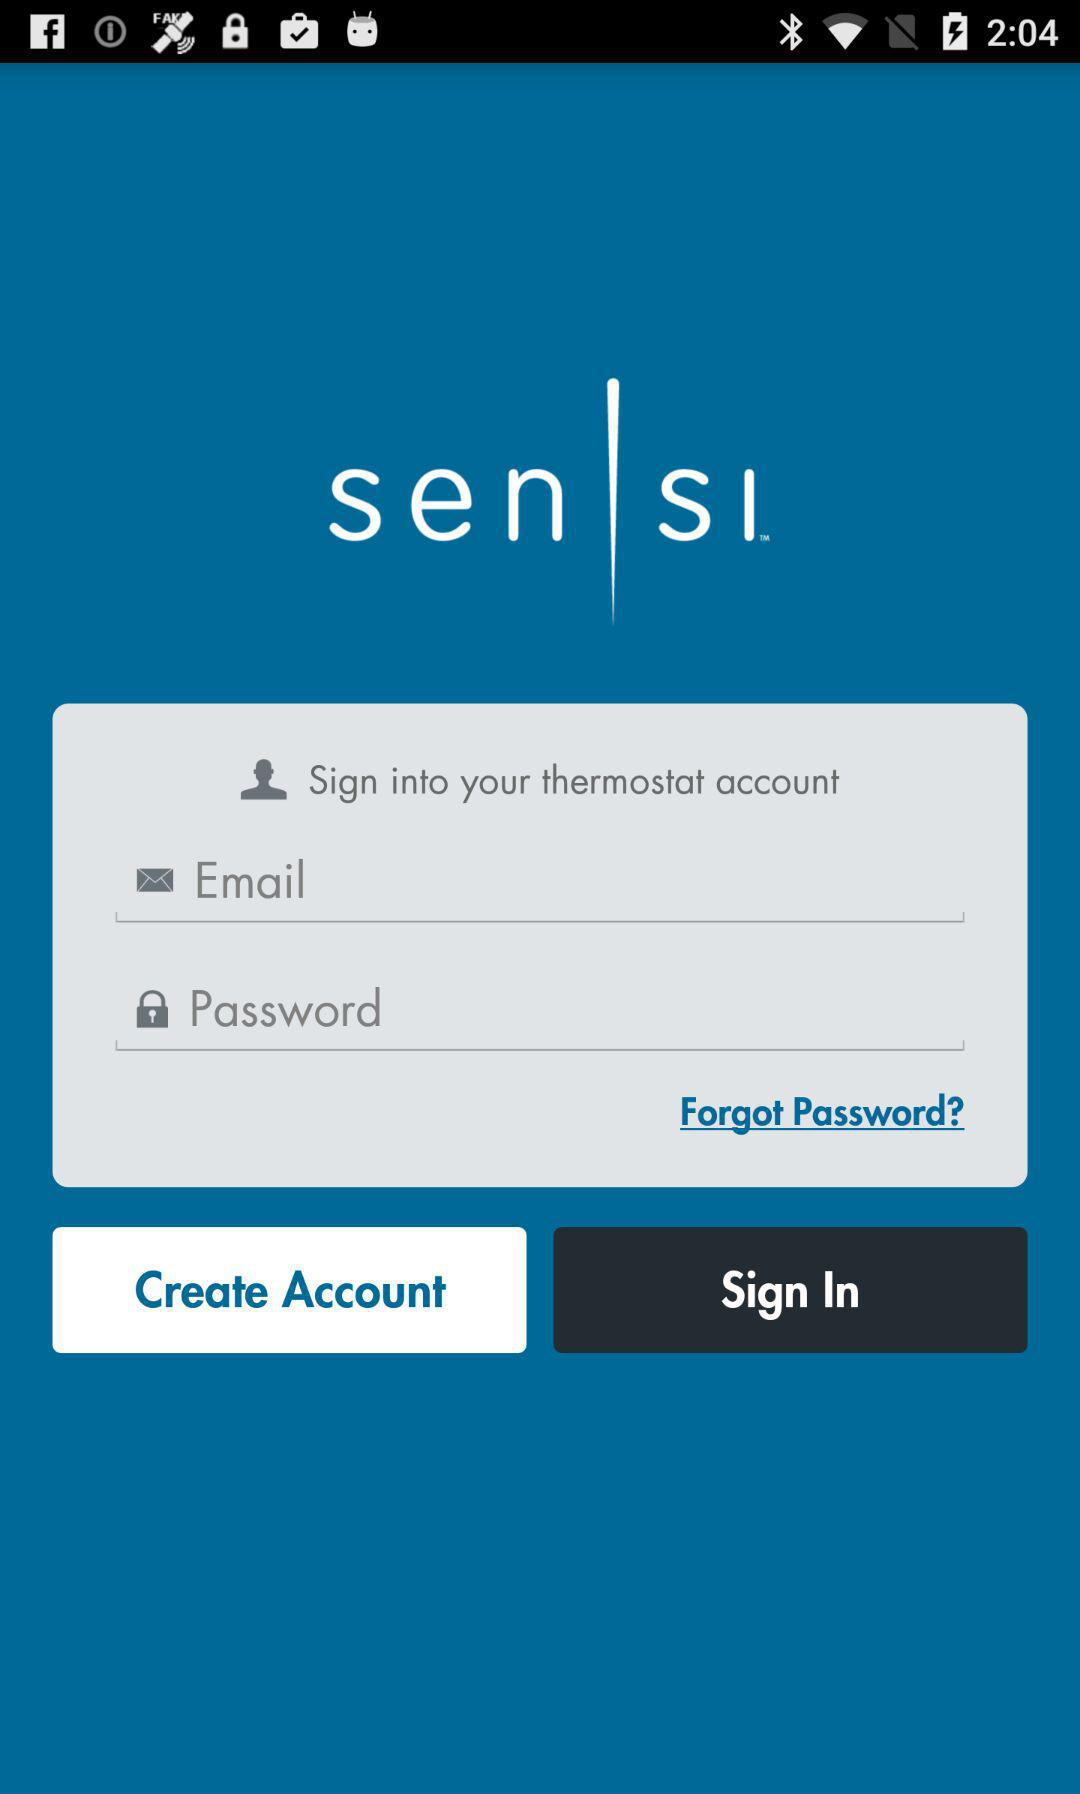Card: (53, 704, 1029, 1188)
EditText: (117, 859, 966, 924), (117, 987, 965, 1052)
Icon: (241, 759, 288, 801), (137, 991, 170, 1029), (137, 868, 176, 893)
Image: (328, 378, 773, 628)
Text: (310, 762, 840, 805), (680, 1092, 966, 1137), (192, 988, 380, 1028), (199, 860, 305, 900)
TextButton: (53, 1228, 528, 1354), (553, 1228, 1027, 1354)
UpperTaskBar: (1, 1, 1080, 64)
